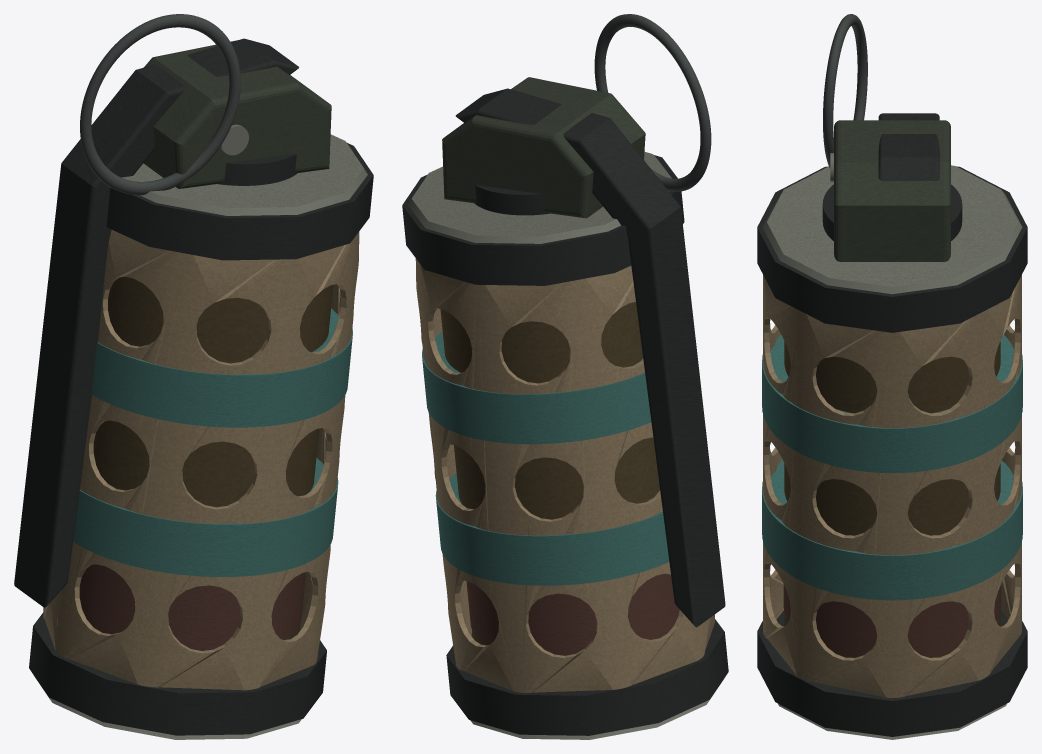
3 views of the same model, side by side, from view 1: azimuth 30°, elevation 25°; view 2: azimuth 150°, elevation 25°; view 3: azimuth 270°, elevation 25° (orthographic). The views are drawn at different scales.
Bounding box in the file's own units: 0.9005 × 1.94 × 0.7301.
Materials: 8 (8 with a texture image).
